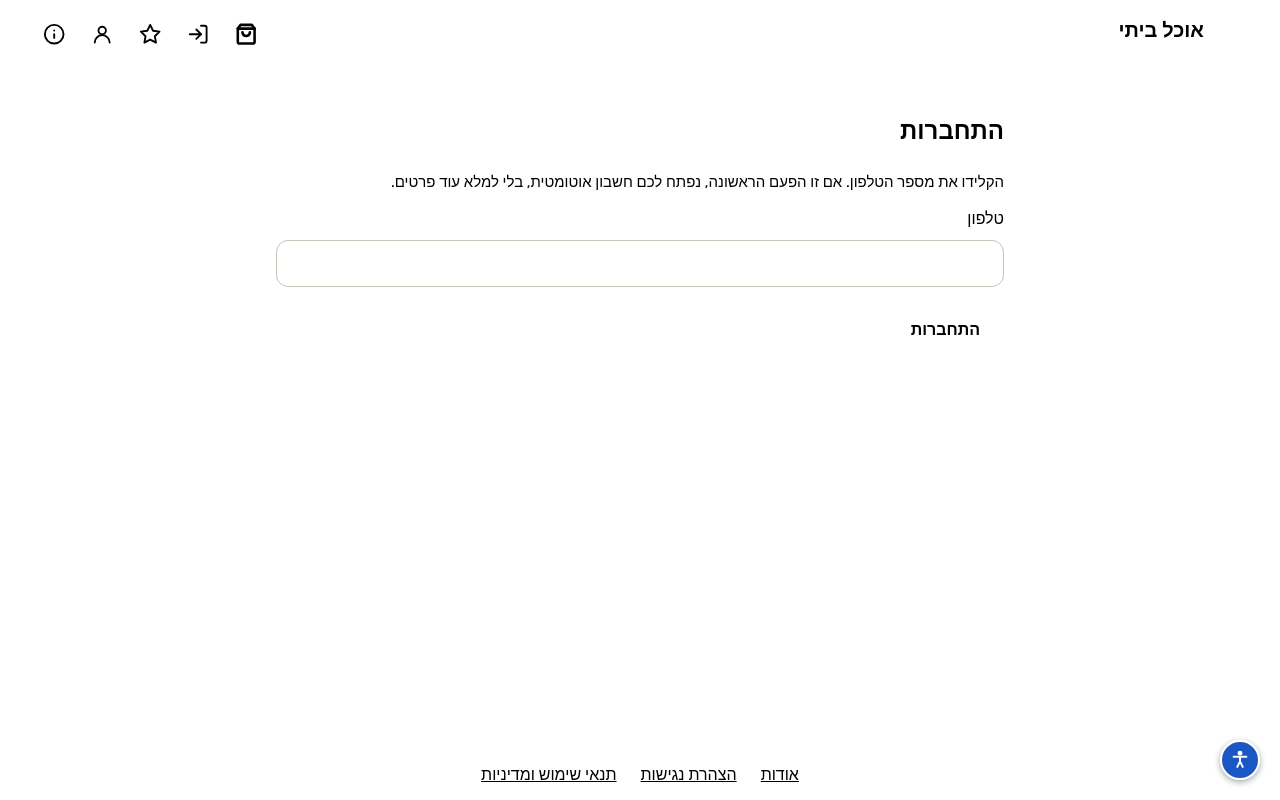
Scenario: Login › logs in an existing client by phone, then opens the order page
The image size is (1280, 800).
Expected: the heading "התחברות" is shown, [900,117,1004,145]
Type "050-123-4567" into the field labelled "טלפון".
click(640, 264); type("050-123-4567")  # box [276,240,1004,287]
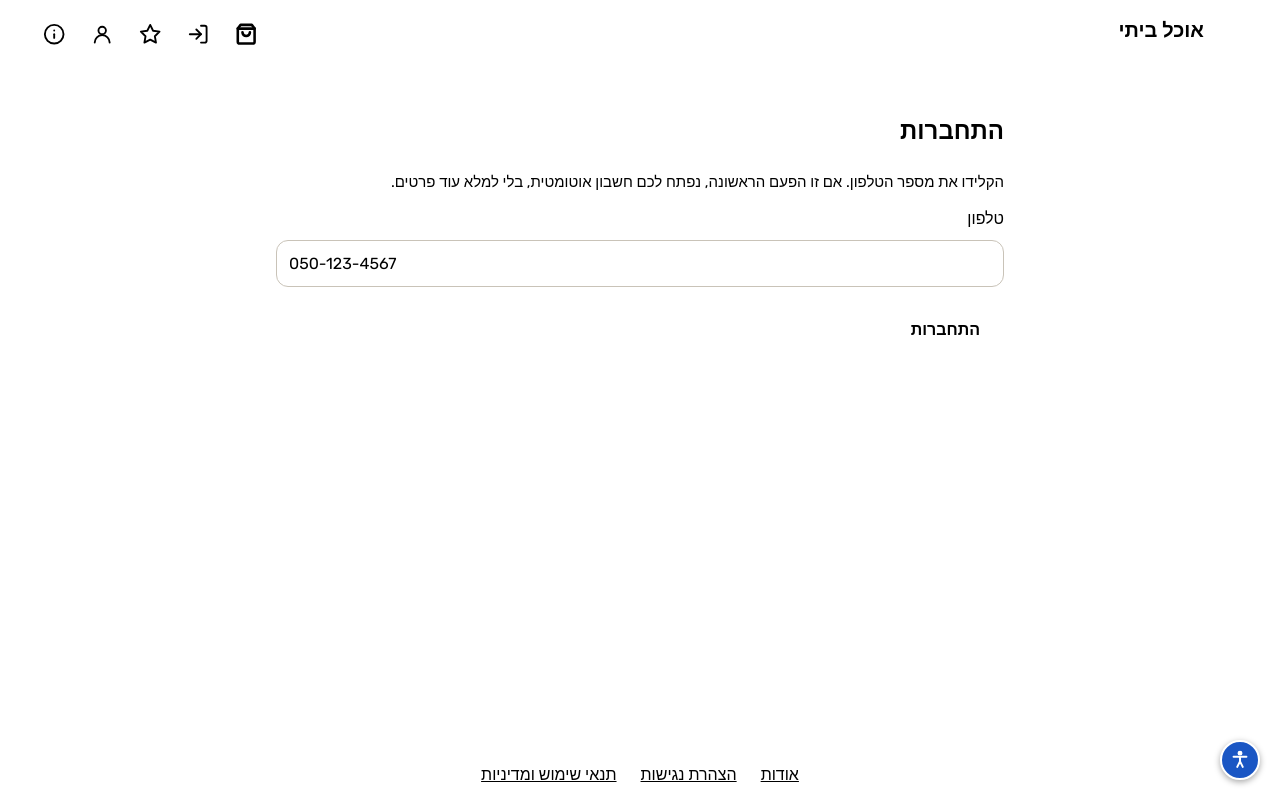
Click the button "התחברות".
click(945, 330)  # box [891,307,1000,353]
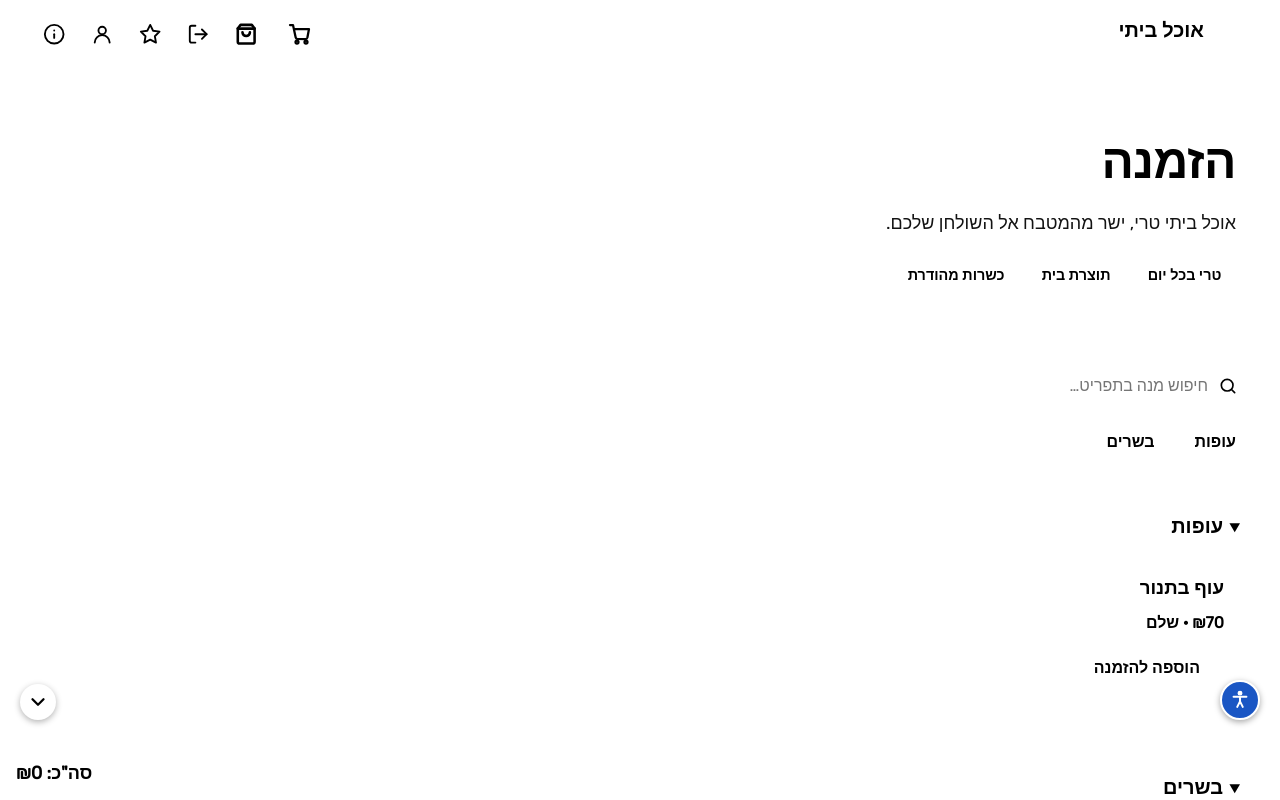
Expected: the heading "הזמנה" is shown, [1101,124,1236,201]
Expected: the button named "התנתקות" is shown, [176,12,220,56]
